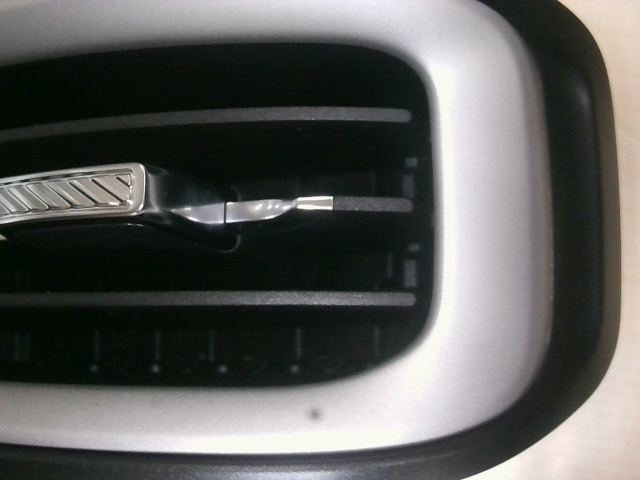NG: (442, 330, 512, 362)
